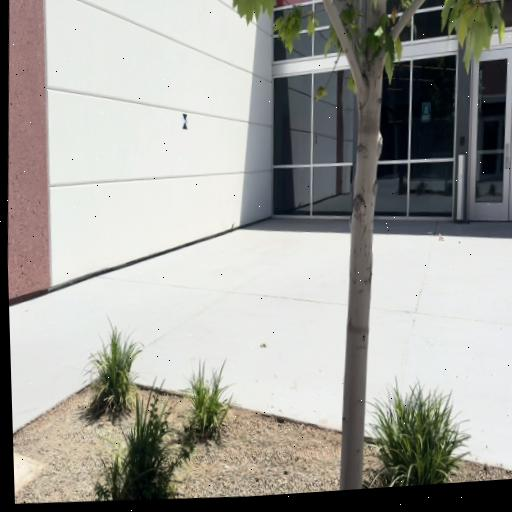target4: (182, 113, 187, 129)
